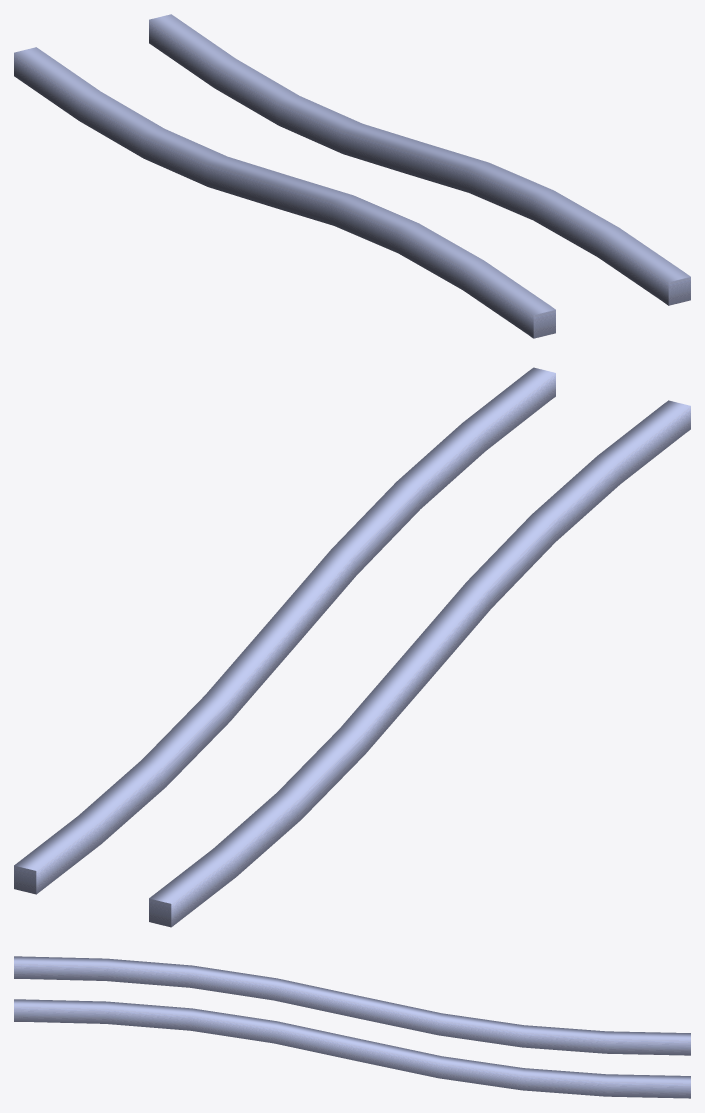
File: railroad-rail-straight-hill-complete-half.glb
3 renders of one model, top to bottom at view 1: azimuth 30°, elevation 25°; view 2: azimuth 150°, elevation 25°; view 3: azimuth 270°, elevation 25°, orthographic. The views are drawn at different scales.
Parts seen in each view (by area): view 1: railroad-rail-straight-hill-complete-half; view 2: railroad-rail-straight-hill-complete-half; view 3: railroad-rail-straight-hill-complete-half.
Boxes of the visible parts, x1,y1,x2,y2 form: railroad-rail-straight-hill-complete-half: (14,14,690,338); railroad-rail-straight-hill-complete-half: (14,367,690,927); railroad-rail-straight-hill-complete-half: (14,956,690,1098).
Size of the model in its own units: 0.6997 by 0.6001 by 4.
Materials: 1 (1 with a texture image).
